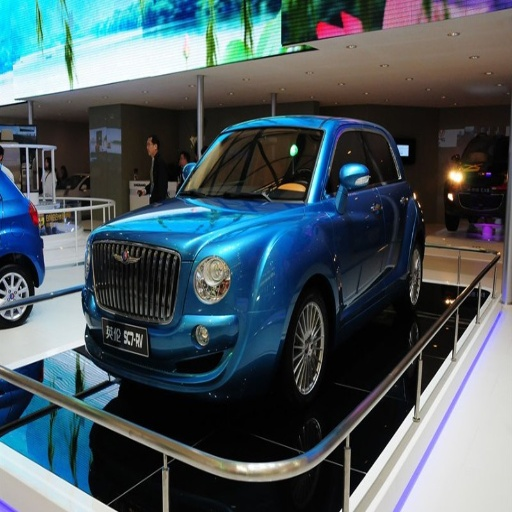front_bumper: (83, 240, 286, 399)
front_glass: (180, 129, 327, 202)
front_left_door: (328, 126, 383, 308)
